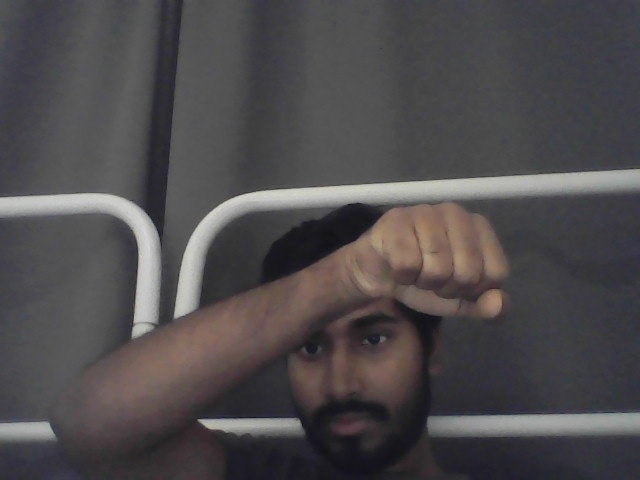yes: (354, 202, 518, 328)
